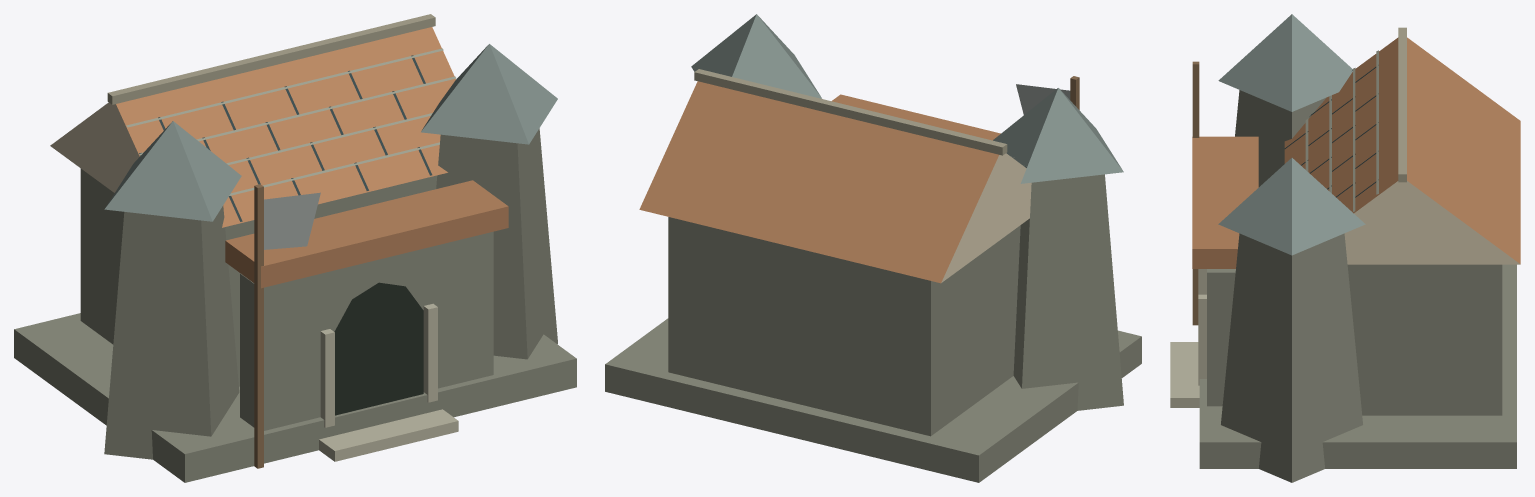
File: ashenHall.glb
3 renders of one model, left to right at view 1: azimuth 30°, elevation 25°; view 2: azimuth 150°, elevation 25°; view 3: azimuth 270°, elevation 25°, orthographic. The views are drawn at different scales.
Visible parts, largest first — view 1: Building; view 2: Building; view 3: Building.
Part boxes in pixels (bbox=[...]): Building: bbox=[14, 14, 576, 482]; Building: bbox=[605, 14, 1141, 482]; Building: bbox=[1170, 14, 1520, 482].
Size of the model in its own units: 66 by 44 by 47.5.
